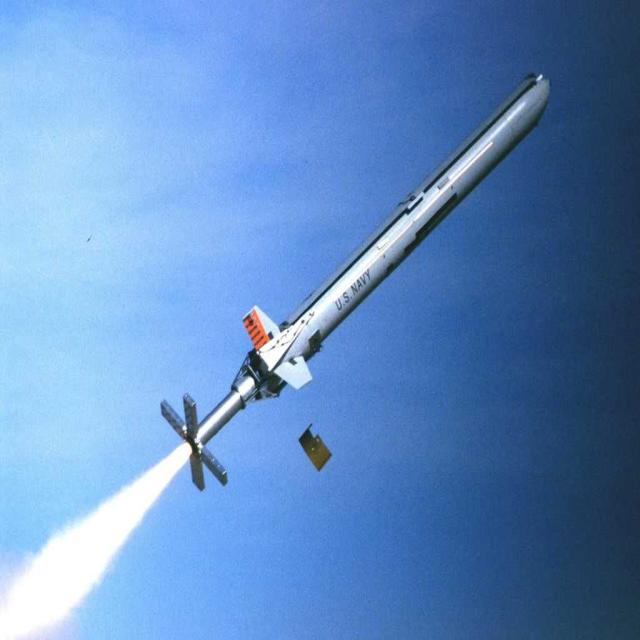missile: (160, 69, 558, 498)
